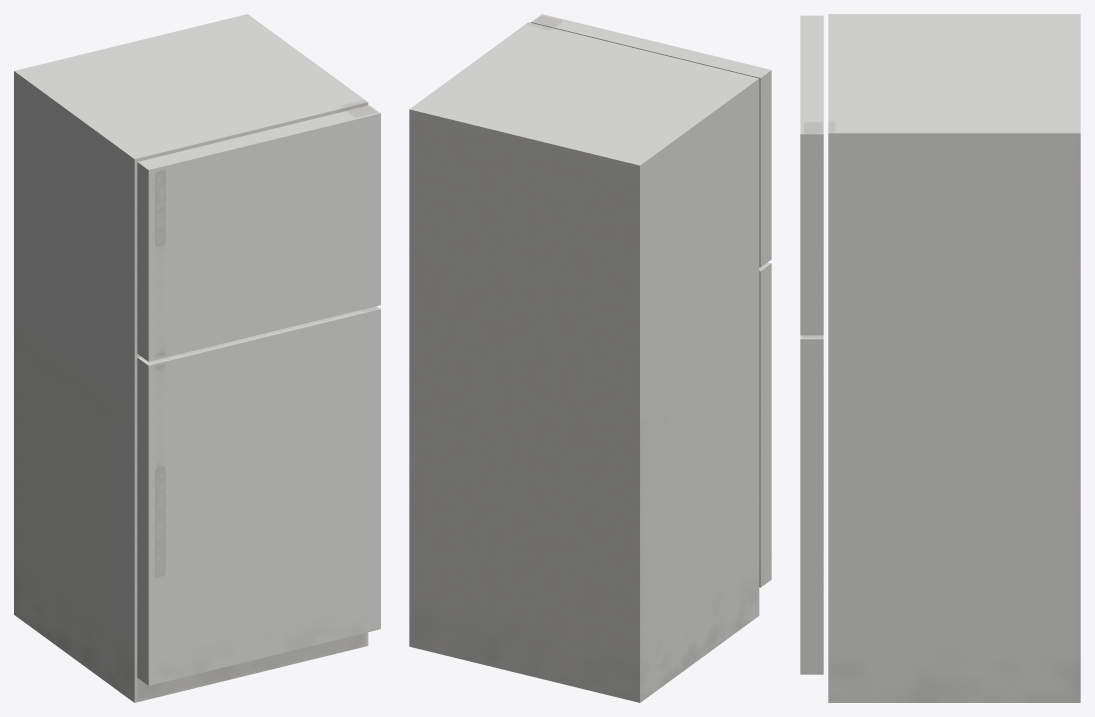
The model's file is same_seed_kitchen_fridge.glb.
3 renders of one model, left to right at view 1: azimuth 30°, elevation 25°; view 2: azimuth 150°, elevation 25°; view 3: azimuth 270°, elevation 25°, orthographic. The views are drawn at different scales.
Visible parts, largest first — view 1: fridge_case_low, fridge_door_lower_low, fridge_door_upper_low; view 2: fridge_case_low, fridge_door_upper_low, fridge_door_lower_low; view 3: fridge_case_low, fridge_door_lower_low, fridge_door_upper_low.
Part boxes in pixels (<box>): fridge_case_low: <box>14,14,368,702</box>; fridge_door_lower_low: <box>137,306,380,685</box>; fridge_door_upper_low: <box>137,105,380,361</box>; fridge_case_low: <box>409,22,759,702</box>; fridge_door_upper_low: <box>531,14,771,267</box>; fridge_door_lower_low: <box>759,262,771,587</box>; fridge_case_low: <box>828,14,1080,702</box>; fridge_door_lower_low: <box>800,335,823,674</box>; fridge_door_upper_low: <box>800,15,823,335</box>.
Size of the model in its own units: 0.75 by 1.67 by 0.744.
Materials: 1 (1 with a texture image).
